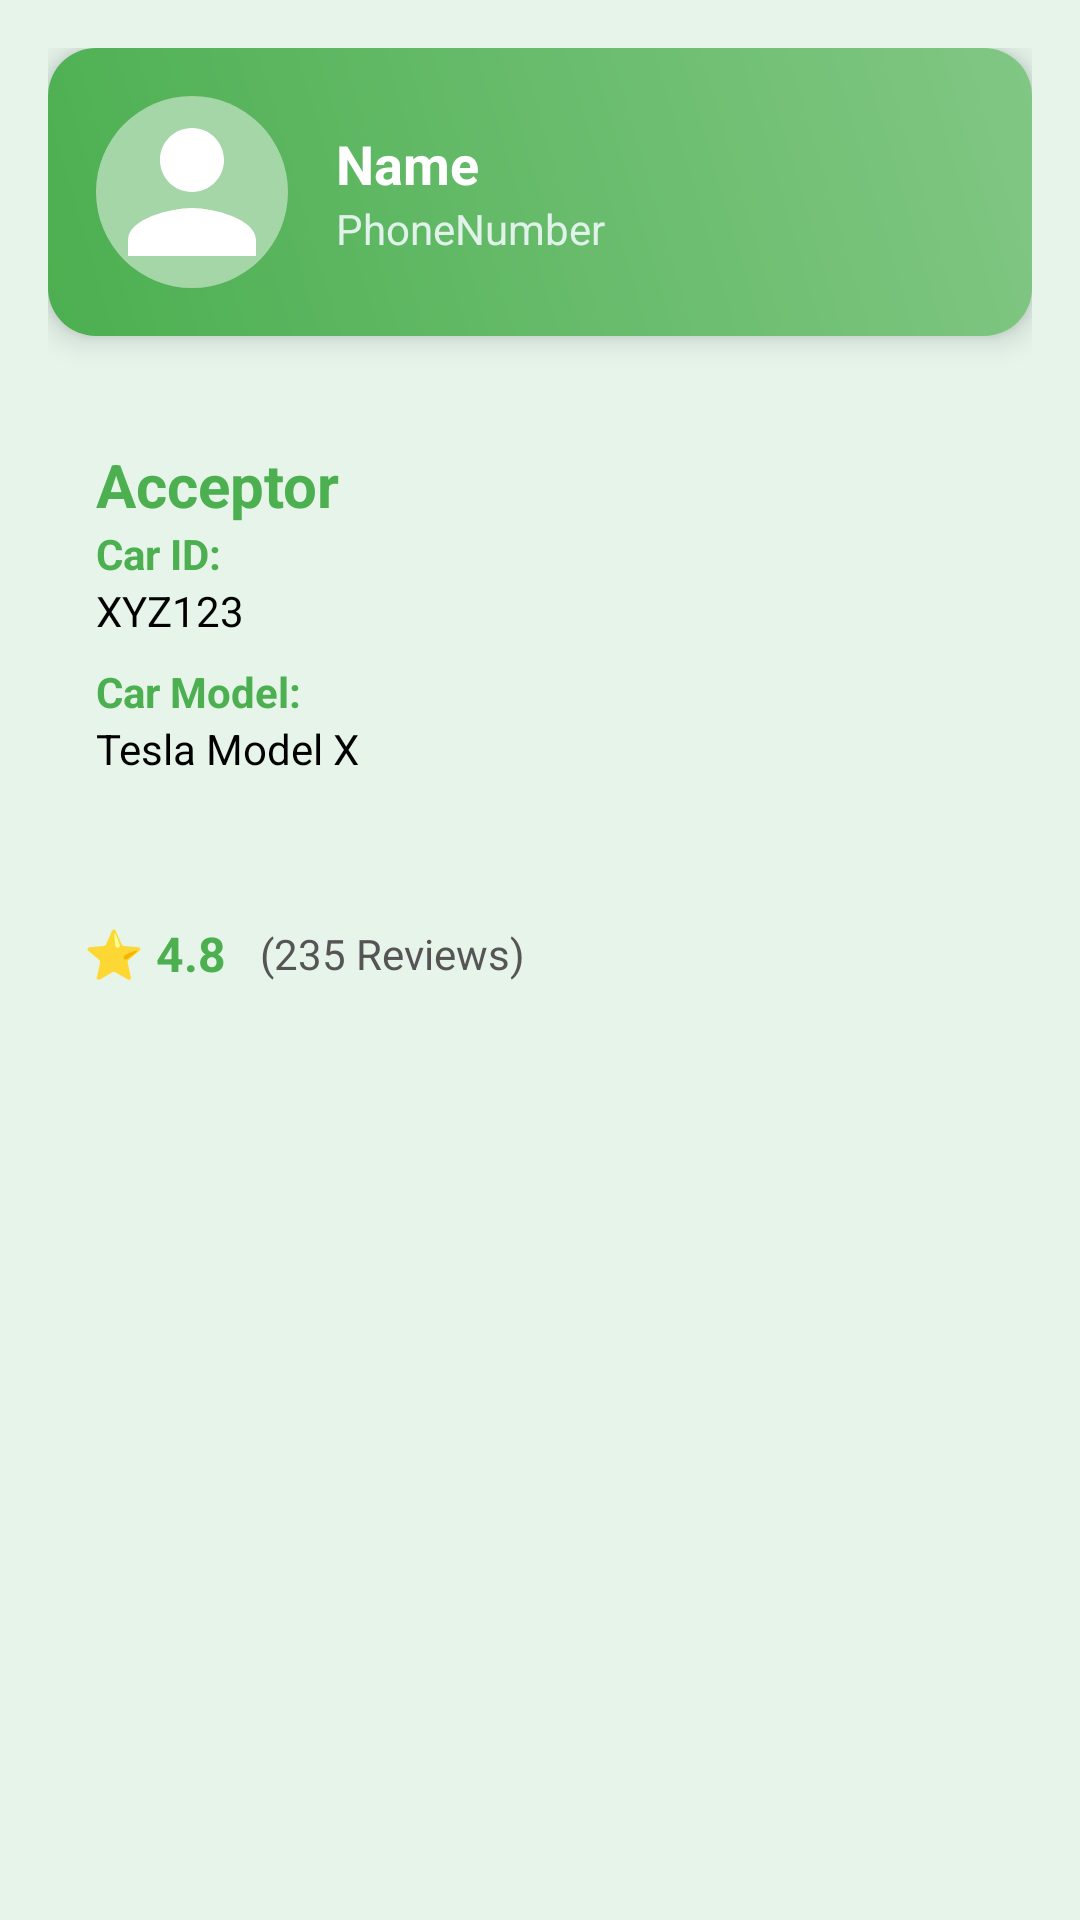

Screen size 1080×1920. Icon name, then its box in pixels as [x1,y1,x2,y2]:
profile: [96,96,288,288]
